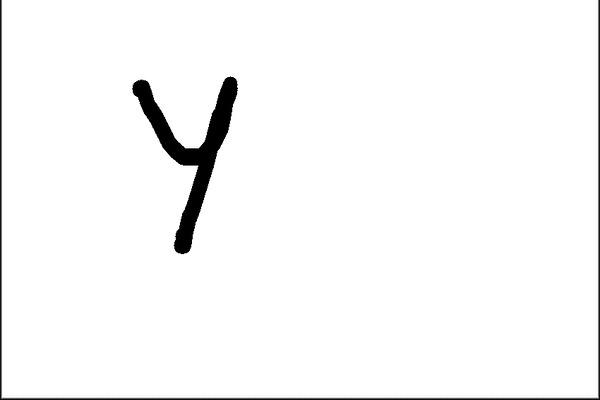Y: (121, 66, 258, 265)
